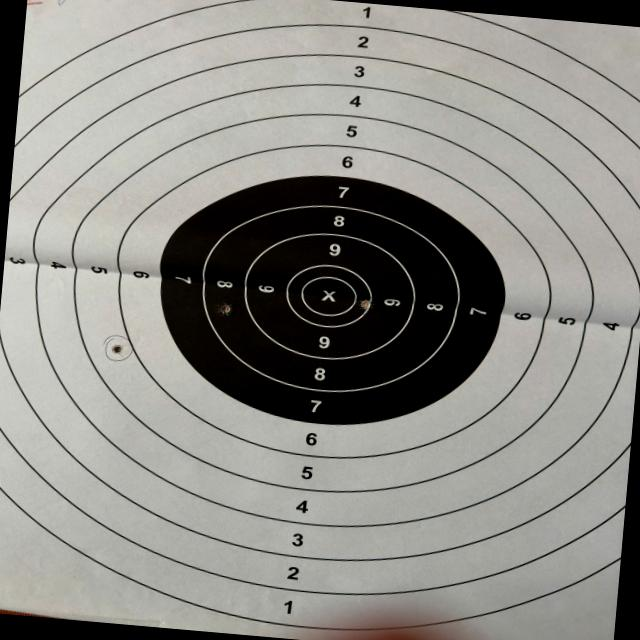bullet: (217, 303, 231, 315), (110, 344, 123, 354), (359, 299, 370, 307)
target: (0, 0, 640, 640)
